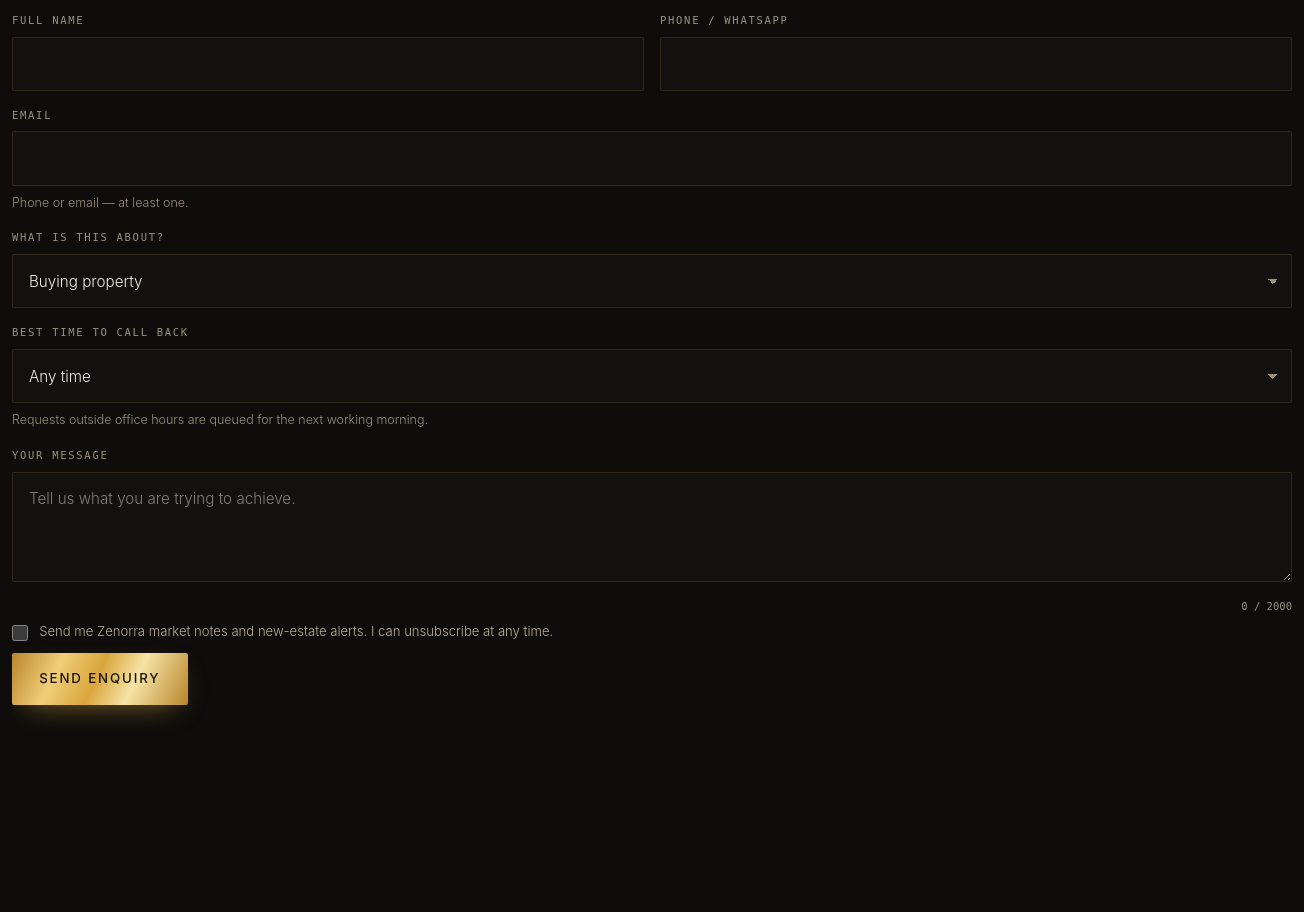
Test: ContactForm (FR-LEAD-009, TC-EDGE-017) › shows a live character counter and caps the message
Type "Hello" into the text box labelled "Your message".
click(652, 527); type("Hello")  # box [12, 472, 1292, 582]
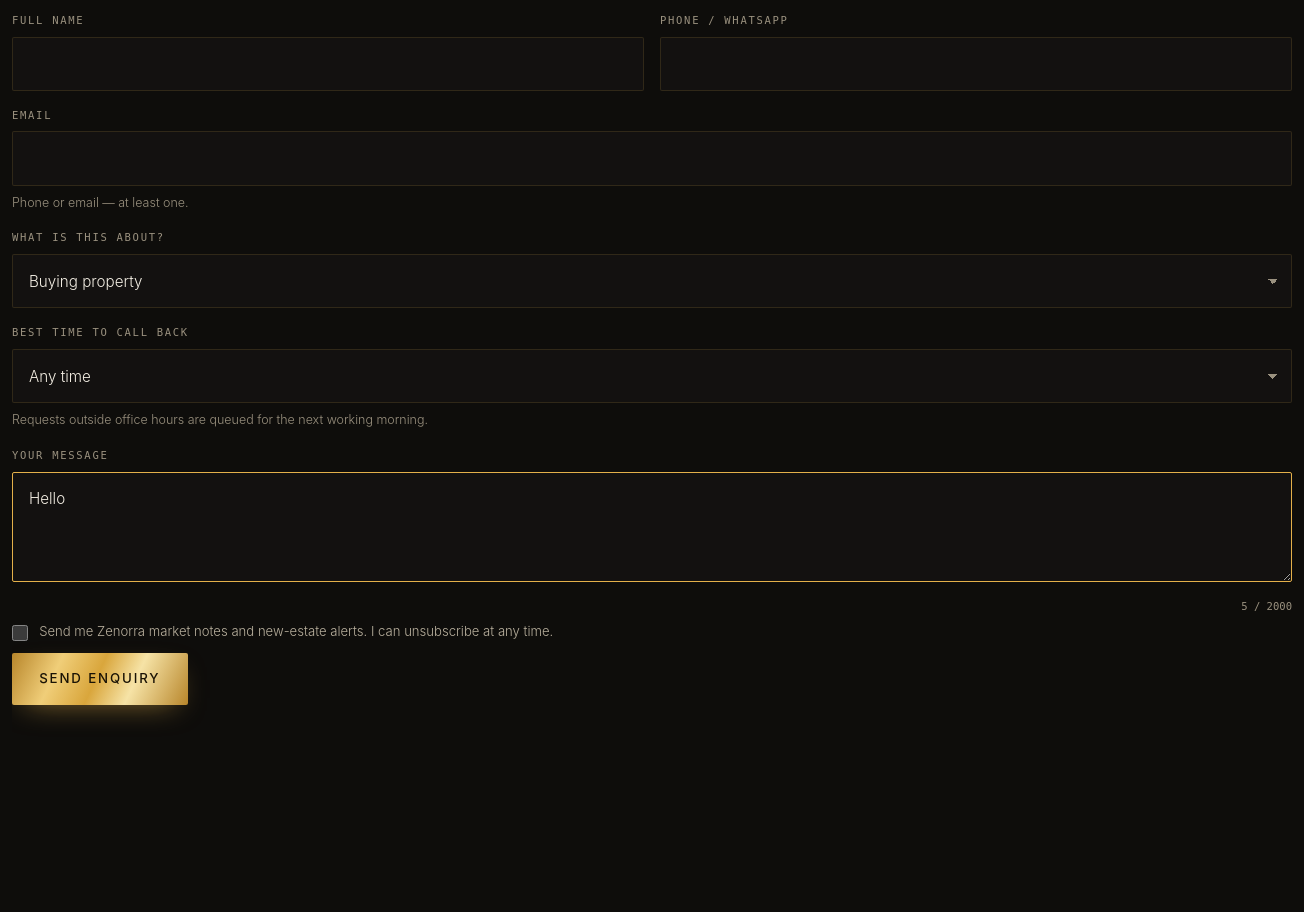
Check: the text "5 / 2000" is shown, box [1241, 600, 1292, 612]
